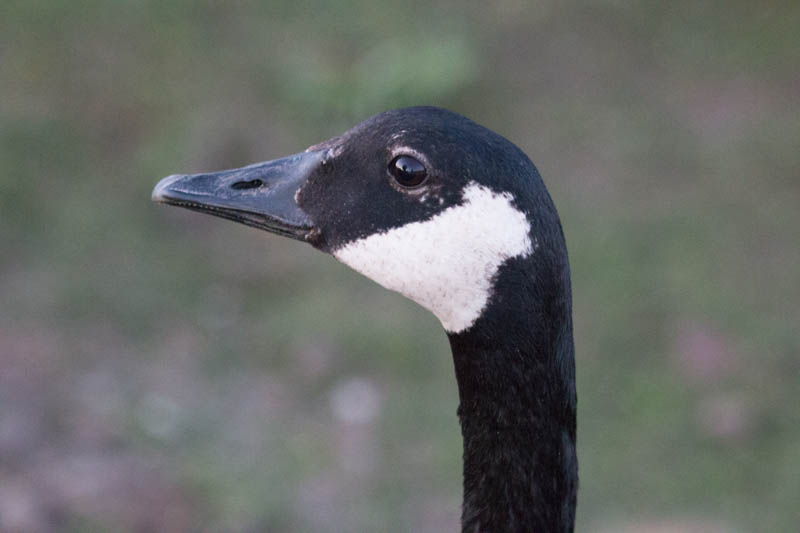goose-head: (150, 106, 571, 335)
